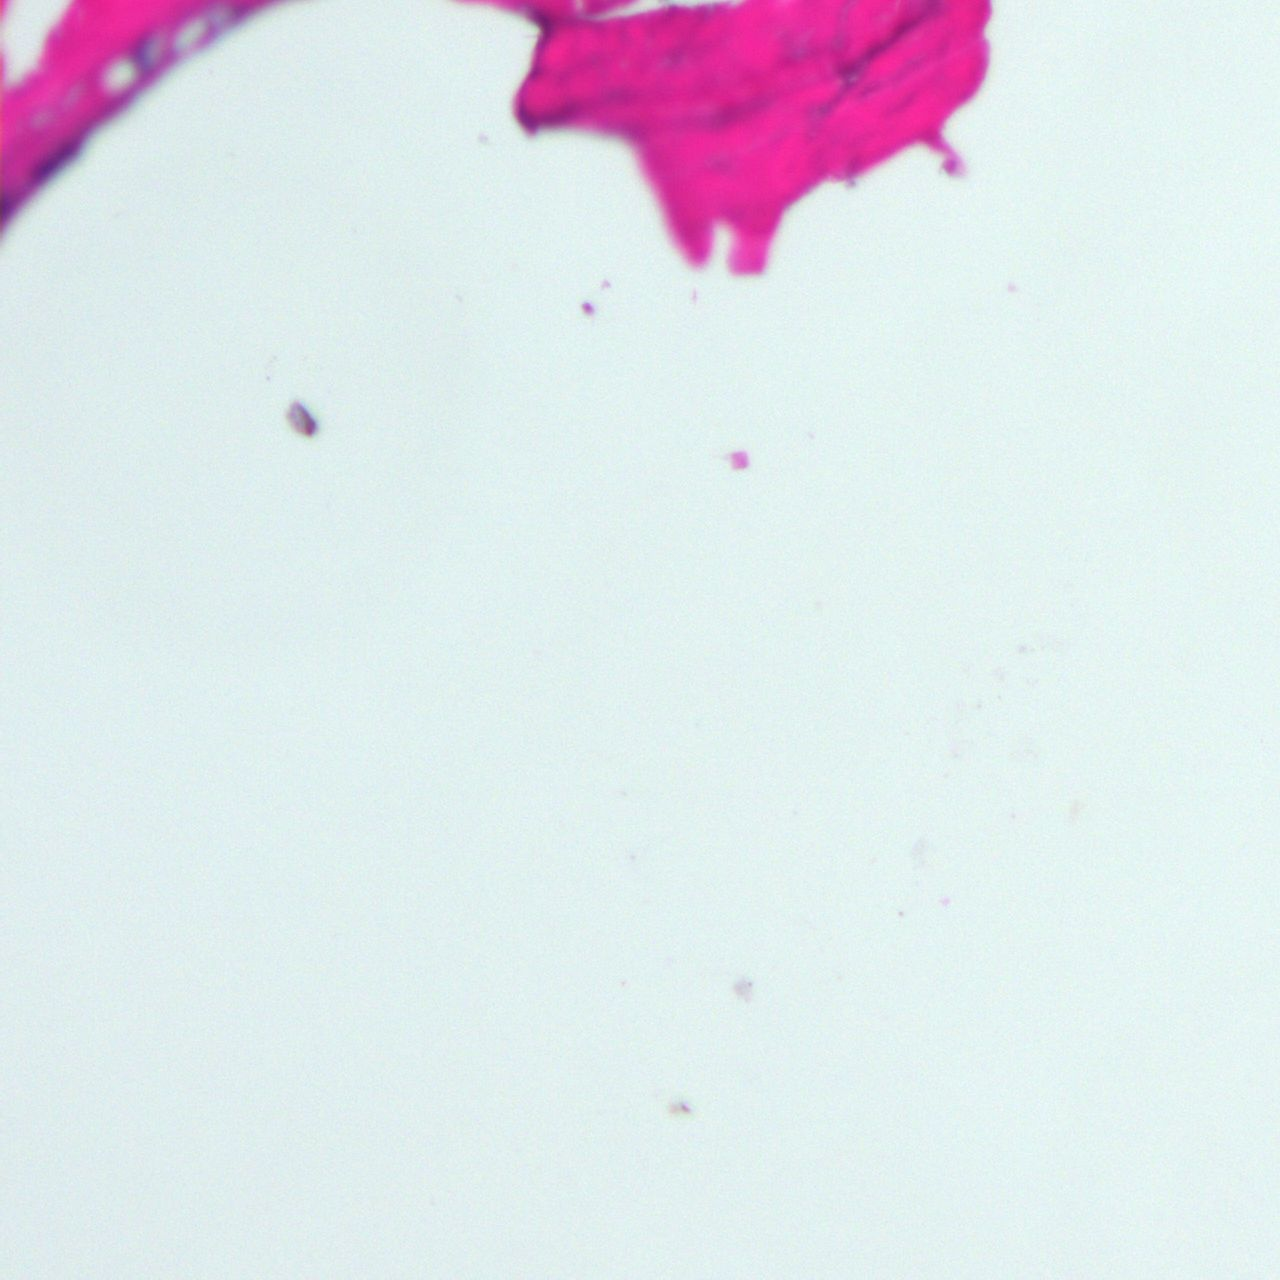dust: (668, 1099, 692, 1114), (733, 979, 751, 995)
